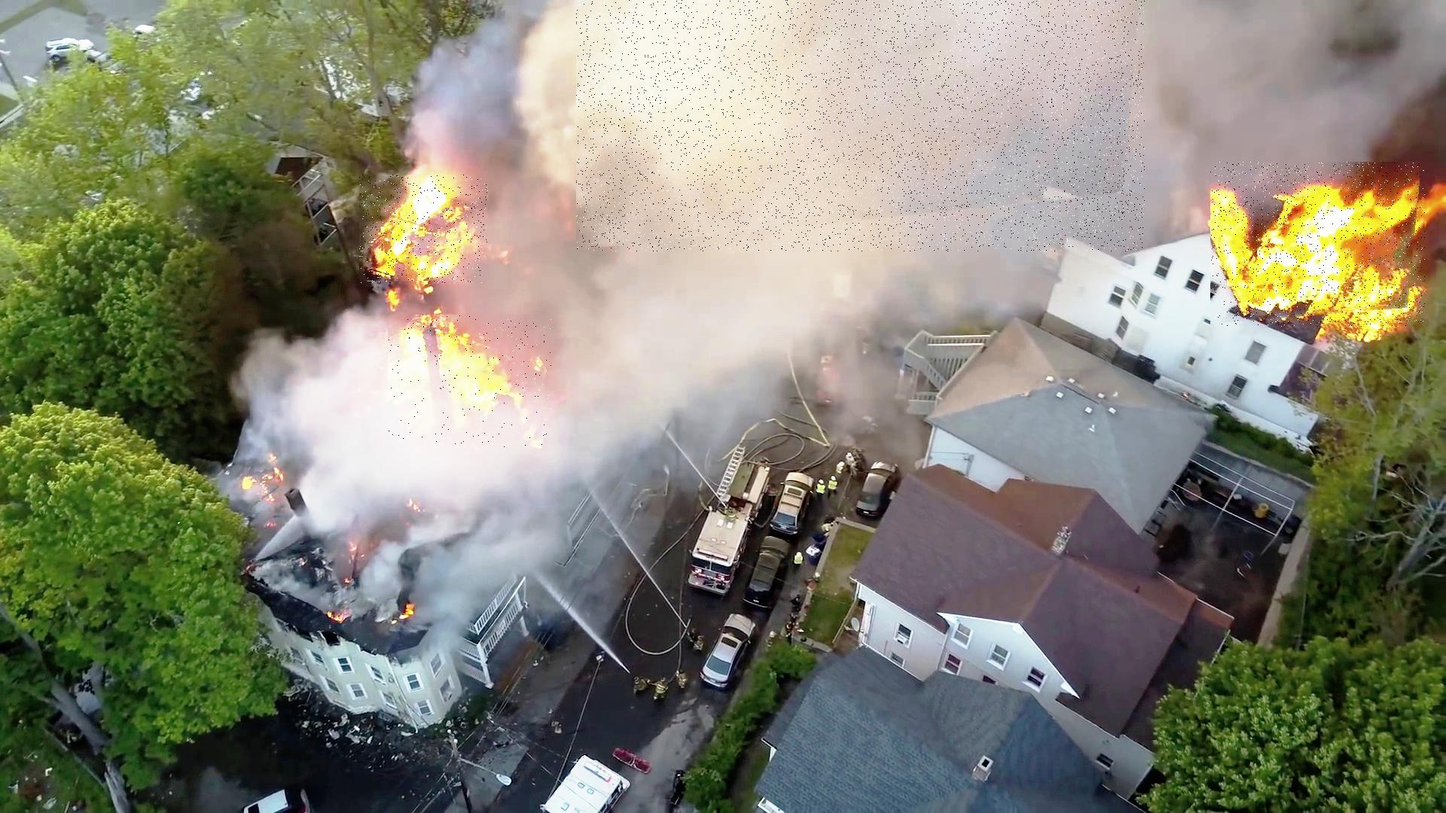fire: (1211, 162, 1426, 327), (388, 315, 552, 447), (359, 175, 488, 284)
smoke: (576, 0, 1145, 251)
